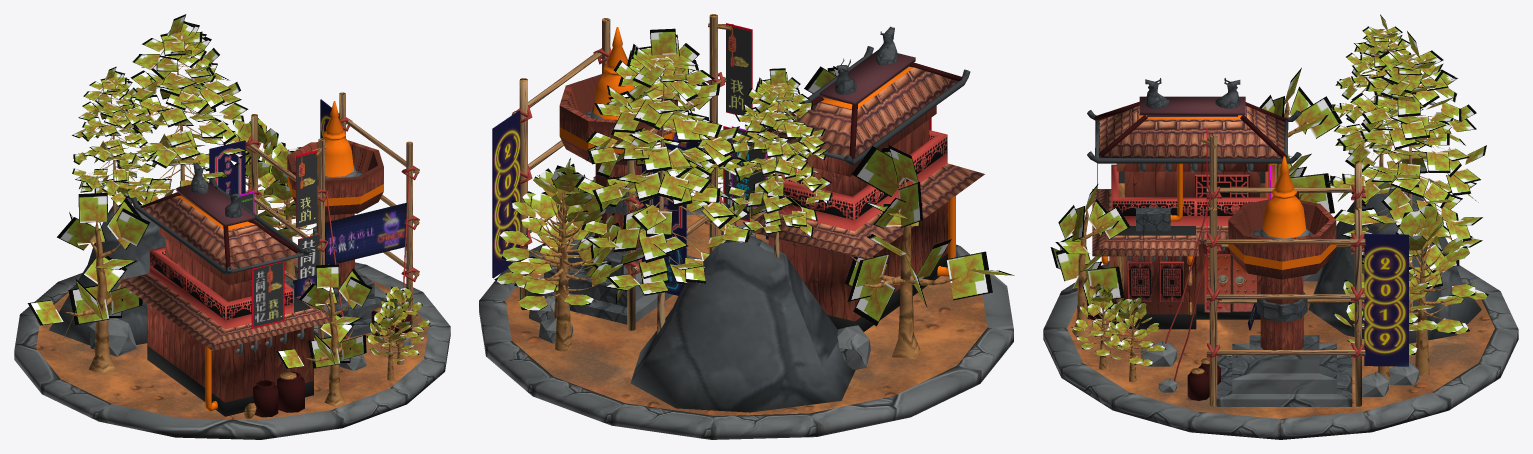
File: DragonGateInn.obj
3 views of the same model, side by side, from view 1: azimuth 30°, elevation 25°; view 2: azimuth 150°, elevation 25°; view 3: azimuth 270°, elevation 25° (orthographic). The views are drawn at different scales.
Parts seen in each view (by area): view 1: Cylinder_0_3_0, Cylinder_1_4_0, leaves.006_0_177_0, Cube_1_7_0, leaves_0_79_0, leaves.007_0_181_0, Cube.005_0_22_0, Cube_2_8_0, leaves.001_0_83_0, Cylinder.038_0_171_0, Cube.013_0_132_0, Cylinder.028_0_100_0 (+28 smaller); view 2: Cylinder.038_0_171_0, leaves.006_0_177_0, Cylinder_1_4_0, Cylinder_0_3_0, leaves.007_0_181_0, leaves_0_79_0, Cube.005_0_22_0, leaves.004_0_158_0, Cube_1_7_0, Cube_2_8_0, Cube_4_10_0, Cube.017_0_142_0 (+21 smaller); view 3: leaves.006_0_177_0, Cylinder_0_3_0, Cylinder_1_4_0, Cube.005_0_22_0, Cylinder.028_0_100_0, Cube.017_0_142_0, Cylinder.038_0_171_0, Cube.012_0_97_0, leaves.001_0_83_0, Cylinder.029_0_104_0, leaves.007_0_181_0, Cylinder.030_0_106_0 (+32 smaller).
Part boxes in pixels (x1,y1,x2,y2): Cylinder_0_3_0: (14, 257, 450, 439); Cylinder_1_4_0: (36, 258, 428, 420); leaves.006_0_177_0: (116, 14, 251, 205); Cube_1_7_0: (147, 303, 313, 402); leaves_0_79_0: (27, 192, 149, 338); leaves.007_0_181_0: (72, 66, 157, 206); Cube.005_0_22_0: (142, 181, 299, 269); Cube_2_8_0: (118, 273, 336, 350); leaves.001_0_83_0: (276, 264, 372, 378); Cylinder.038_0_171_0: (49, 188, 165, 345); Cube.013_0_132_0: (325, 203, 406, 264); Cylinder.028_0_100_0: (287, 140, 383, 285); Cylinder.038_0_171_0: (630, 236, 855, 412); leaves.006_0_177_0: (575, 28, 752, 304); Cylinder_1_4_0: (505, 213, 987, 415); Cylinder_0_3_0: (479, 207, 1013, 439); leaves.007_0_181_0: (723, 68, 833, 238); leaves_0_79_0: (845, 145, 1014, 326); Cube.005_0_22_0: (773, 50, 957, 156); leaves.004_0_158_0: (494, 158, 625, 310); Cube_1_7_0: (768, 201, 948, 321); Cube_2_8_0: (752, 163, 984, 259); Cube_4_10_0: (779, 130, 947, 231); Cube.017_0_142_0: (492, 110, 520, 278); leaves.006_0_177_0: (1327, 31, 1486, 288); Cylinder_0_3_0: (1043, 261, 1518, 439); Cylinder_1_4_0: (1067, 281, 1494, 418); Cube.005_0_22_0: (1099, 96, 1284, 158); Cylinder.028_0_100_0: (1228, 199, 1336, 355); Cube.017_0_142_0: (1364, 234, 1408, 366); Cylinder.038_0_171_0: (1308, 182, 1481, 343); Cube.012_0_97_0: (1217, 343, 1352, 406); leaves.001_0_83_0: (1050, 184, 1130, 316); Cylinder.029_0_104_0: (1209, 134, 1361, 406); leaves.007_0_181_0: (1330, 14, 1425, 169); Cylinder.030_0_106_0: (1206, 187, 1365, 354).
Size of the model in its own units: 14.97 by 10.32 by 14.4.
22 materials, 20 textured.
